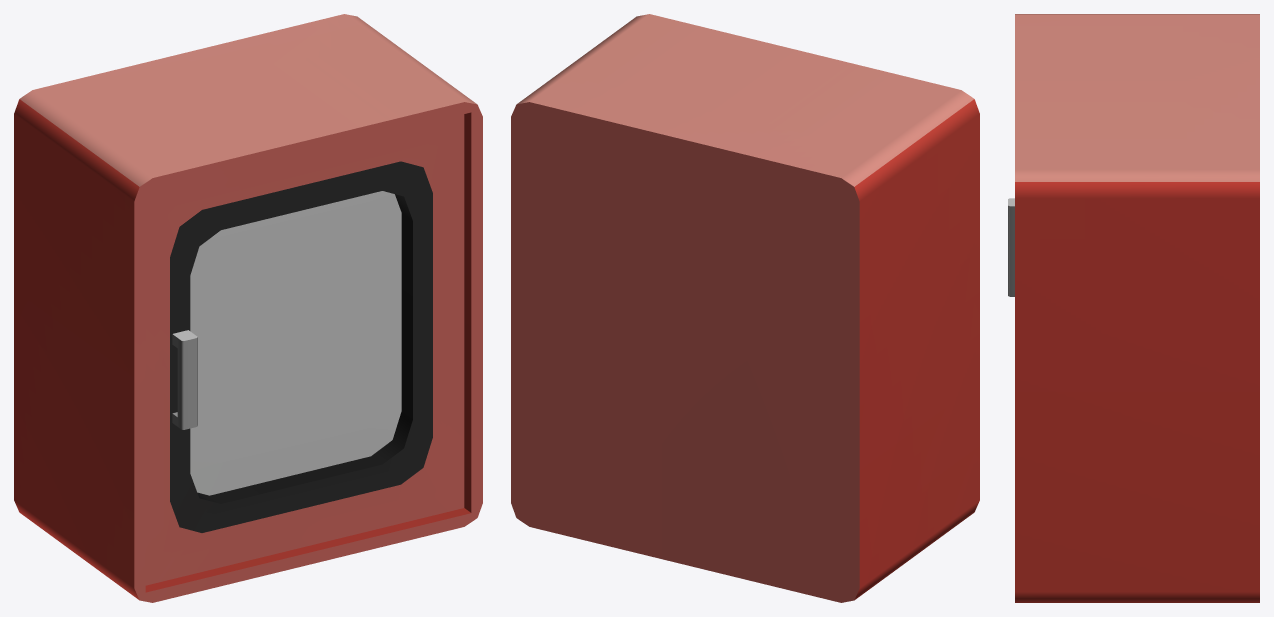
The model's file is Fire_extinguisher_Box.fbx.
3 renders of one model, left to right at view 1: azimuth 30°, elevation 25°; view 2: azimuth 150°, elevation 25°; view 3: azimuth 270°, elevation 25°, orthographic.
Visible parts, largest first — view 1: Fire_extinguisher_Box; view 2: Fire_extinguisher_Box; view 3: Fire_extinguisher_Box.
Part boxes in pixels (bbox=[...]): Fire_extinguisher_Box: bbox=[14, 14, 482, 602]; Fire_extinguisher_Box: bbox=[511, 14, 979, 602]; Fire_extinguisher_Box: bbox=[1008, 14, 1259, 602].
Bounding box in the file's own units: 172 × 200 × 106.
